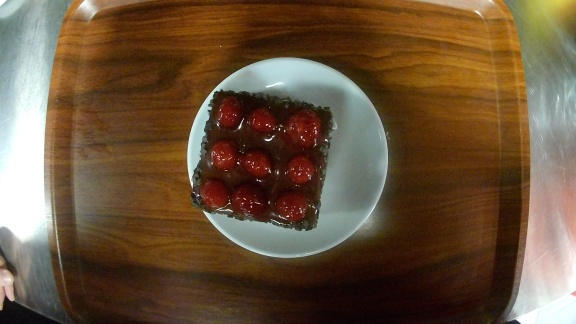cileklipasta: (186, 58, 389, 259)
